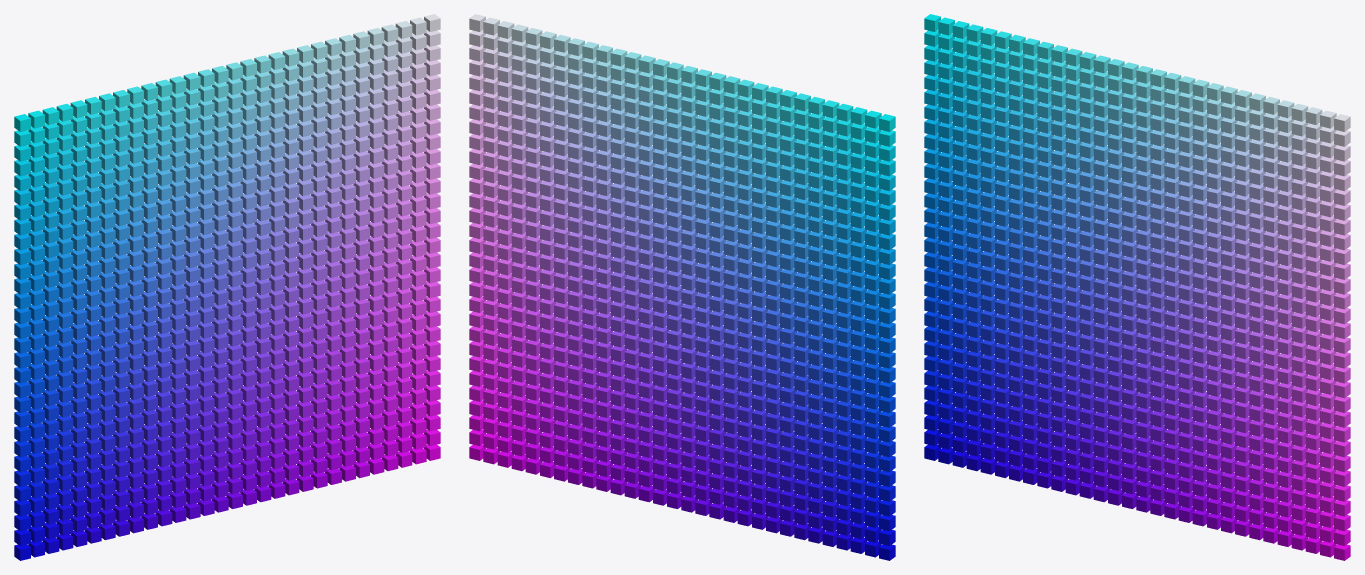
The picture shows the model from 3 angles, left to right: view 1: azimuth 30°, elevation 25°; view 2: azimuth 150°, elevation 25°; view 3: azimuth 330°, elevation 25°; orthographic projection.
Bounding box in the file's own units: 29.75 × 29.75 × 0.75.
